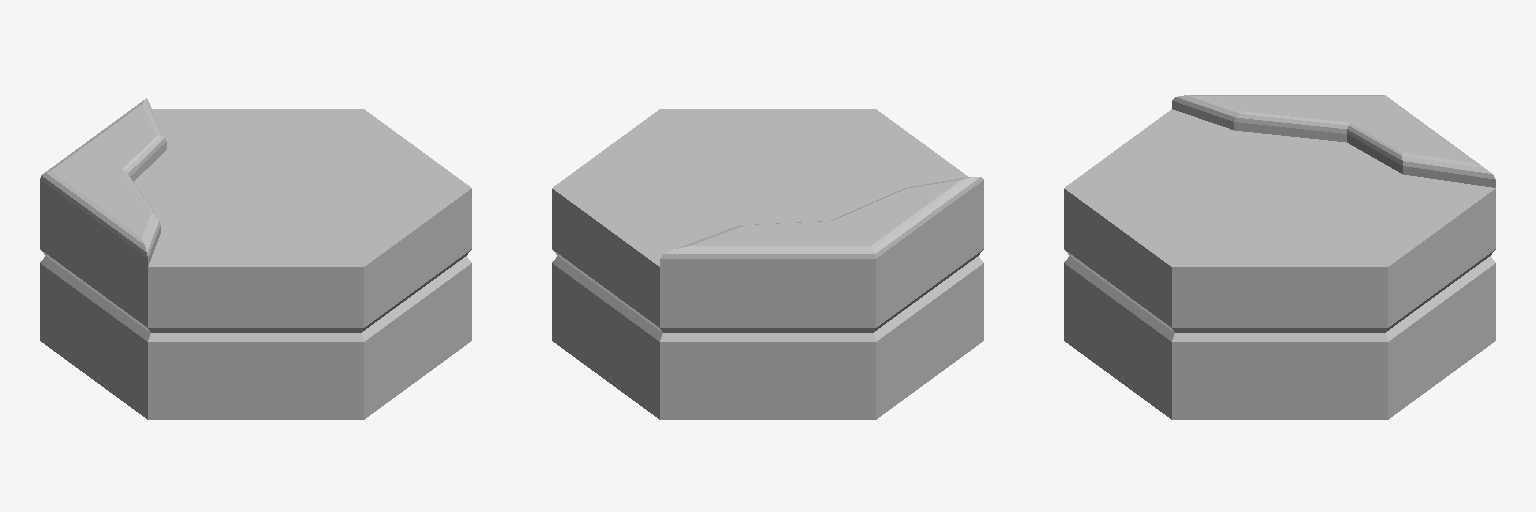
Rendered from hex_forest_waterA_detail.obj.
3 renders of one model, left to right at view 1: azimuth 30°, elevation 25°; view 2: azimuth 150°, elevation 25°; view 3: azimuth 270°, elevation 25°, orthographic.
Visible parts, largest first — view 1: hex_forest_waterA_detail_Cylinder.480; view 2: hex_forest_waterA_detail_Cylinder.480; view 3: hex_forest_waterA_detail_Cylinder.480.
Boxes of the visible parts, box(x1,y1,x2,y2) form: hex_forest_waterA_detail_Cylinder.480: box(40, 98, 471, 419); hex_forest_waterA_detail_Cylinder.480: box(552, 109, 983, 419); hex_forest_waterA_detail_Cylinder.480: box(1064, 95, 1495, 419).
Bounding box in the file's own units: 2 × 1 × 2.31.